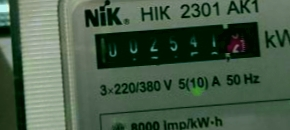0: (103, 38, 117, 60), (124, 34, 137, 56)
1: (204, 27, 217, 51)
2: (144, 32, 159, 55)
4: (185, 28, 197, 50)
5: (164, 31, 178, 54)
6: (228, 42, 239, 54)
screen: (79, 11, 271, 78)
